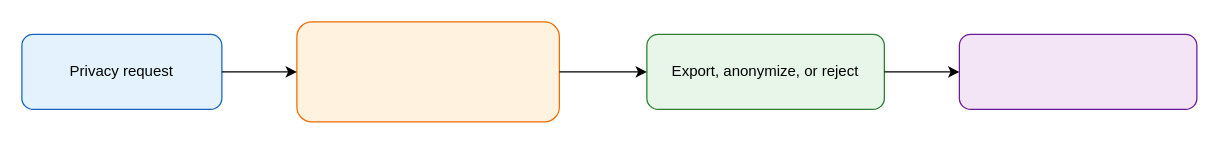
The diagram is 1219 pixels wide and 144 high, and some of its shapes have lost their labels. Here are the shapes that lost their labels. From the top down, the centre of each, then its label:
At (427,71): "Policy review and retention check".
At (1077,71): "Audit and completion evidence".
